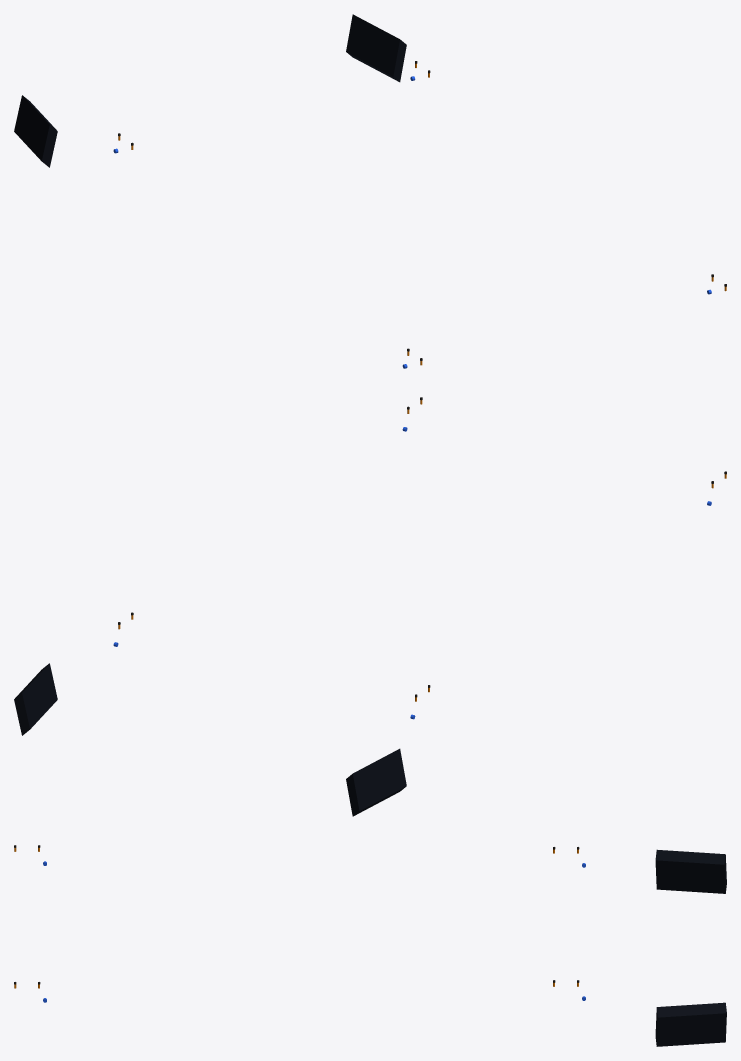
Rendered from bumper_air_curtains.glb.
3 renders of one model, top to bottom at view 1: azimuth 30°, elevation 25°; view 2: azimuth 150°, elevation 25°; view 3: azimuth 270°, elevation 25°, orthographic. The views are drawn at different scales.
Visible parts, largest first — view 1: Air_Curtains_Caliper_Bleeders_Assembly; view 2: Air_Curtains_Caliper_Bleeders_Assembly; view 3: Air_Curtains_Caliper_Bleeders_Assembly.
Boxes of the visible parts, left/top/right/bottom form: Air_Curtains_Caliper_Bleeders_Assembly: left=14, top=14, right=726, bottom=368; Air_Curtains_Caliper_Bleeders_Assembly: left=14, top=397, right=726, bottom=816; Air_Curtains_Caliper_Bleeders_Assembly: left=14, top=845, right=726, bottom=1046.
Size of the model in its own units: 1.94 by 0.3 by 3.57.
